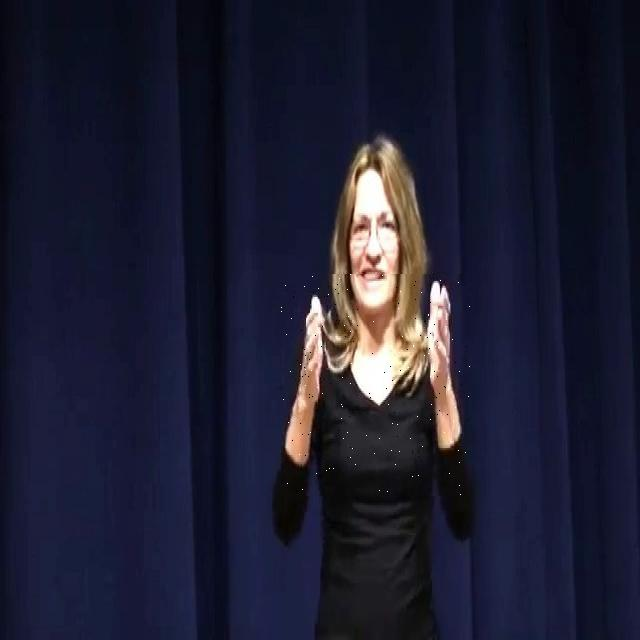manager: (282, 274, 472, 496)
